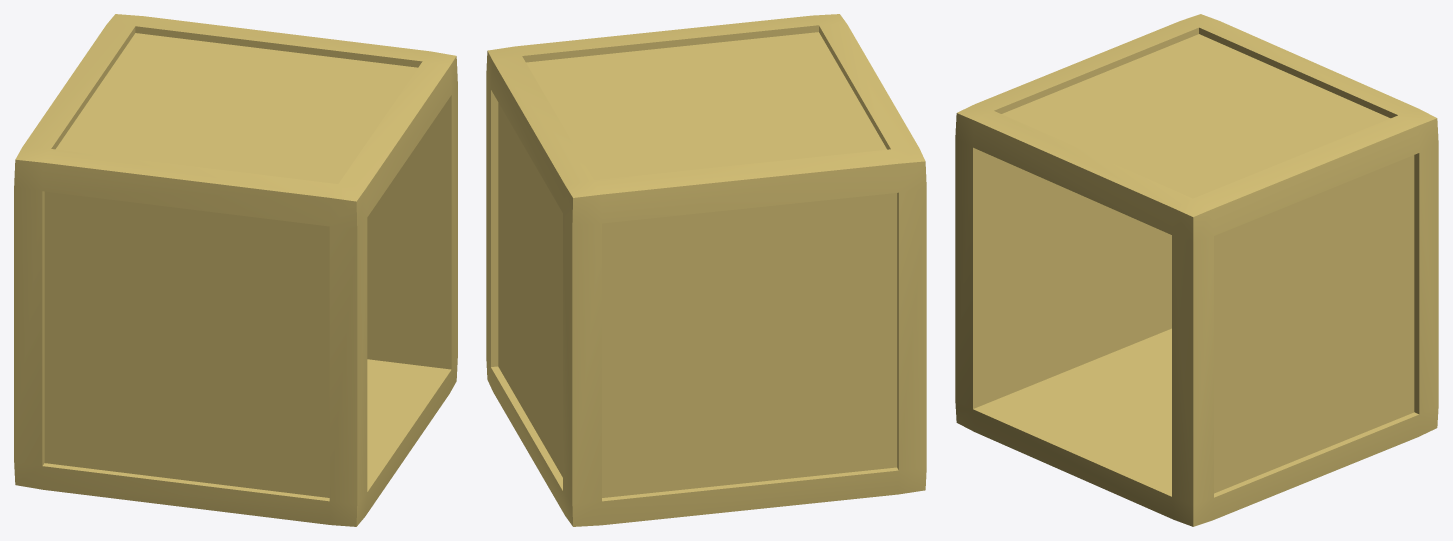
File: ZG_Proxy_Box6.fbx
3 renders of one model, left to right at view 1: azimuth 30°, elevation 25°; view 2: azimuth 150°, elevation 25°; view 3: azimuth 270°, elevation 25°, orthographic. The views are drawn at different scales.
Parts seen in each view (by area): view 1: CardboardBox2; view 2: CardboardBox2; view 3: CardboardBox2.
Boxes of the visible parts, left/top/right/bottom form: CardboardBox2: left=14, top=14, right=457, bottom=526; CardboardBox2: left=486, top=14, right=926, bottom=526; CardboardBox2: left=955, top=14, right=1438, bottom=526.
Size of the model in its own units: 138 by 99.55 by 138.
